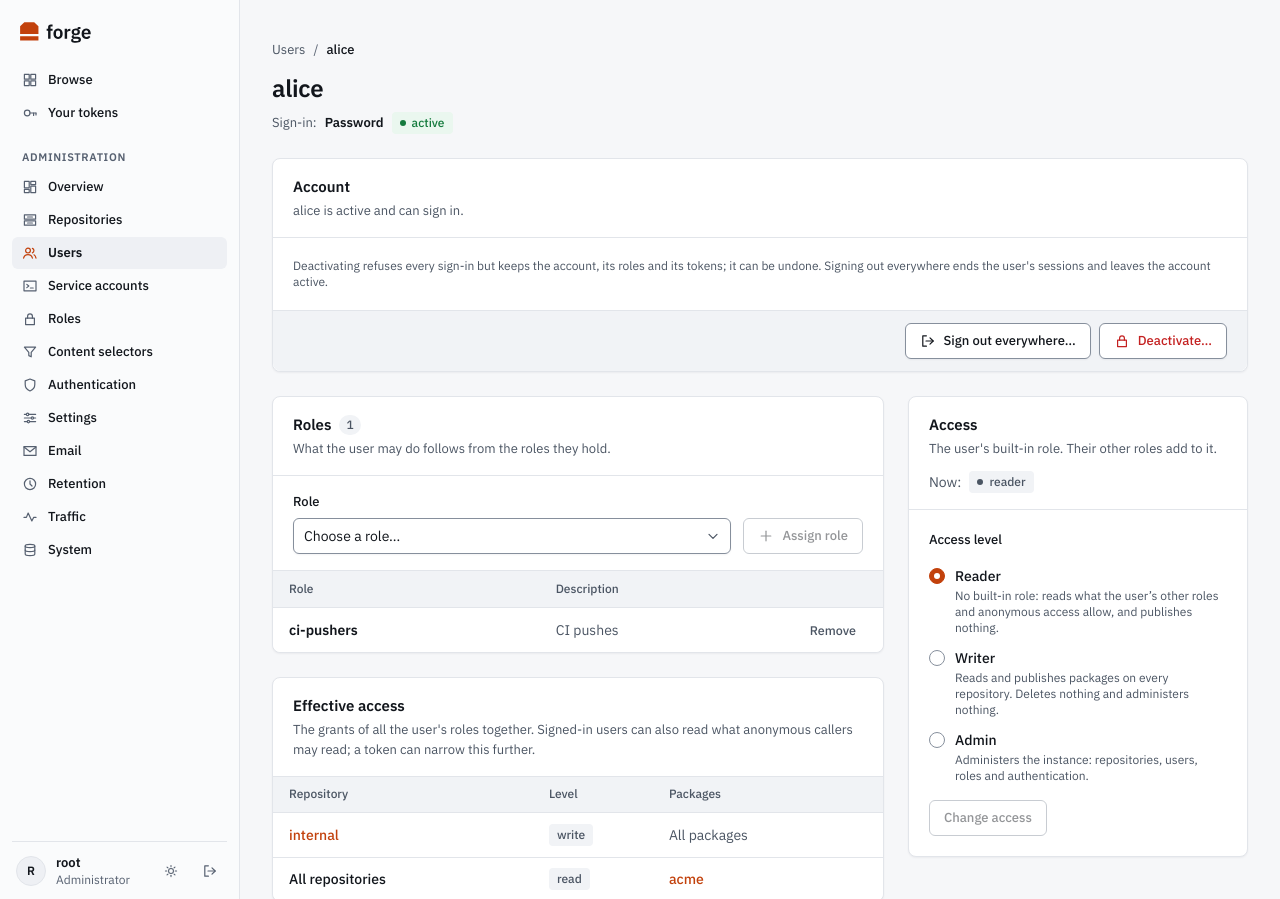
Scenario: admin user roles › assigns and removes a user's roles
The image size is (1280, 899).
Expected: the link "ci-pushers" is shown, x1=289 y1=620 x2=358 y2=640
Select "auditors" in the dropdown labelled "Role" at (512, 536), box x1=293 y1=518 x2=731 y2=554
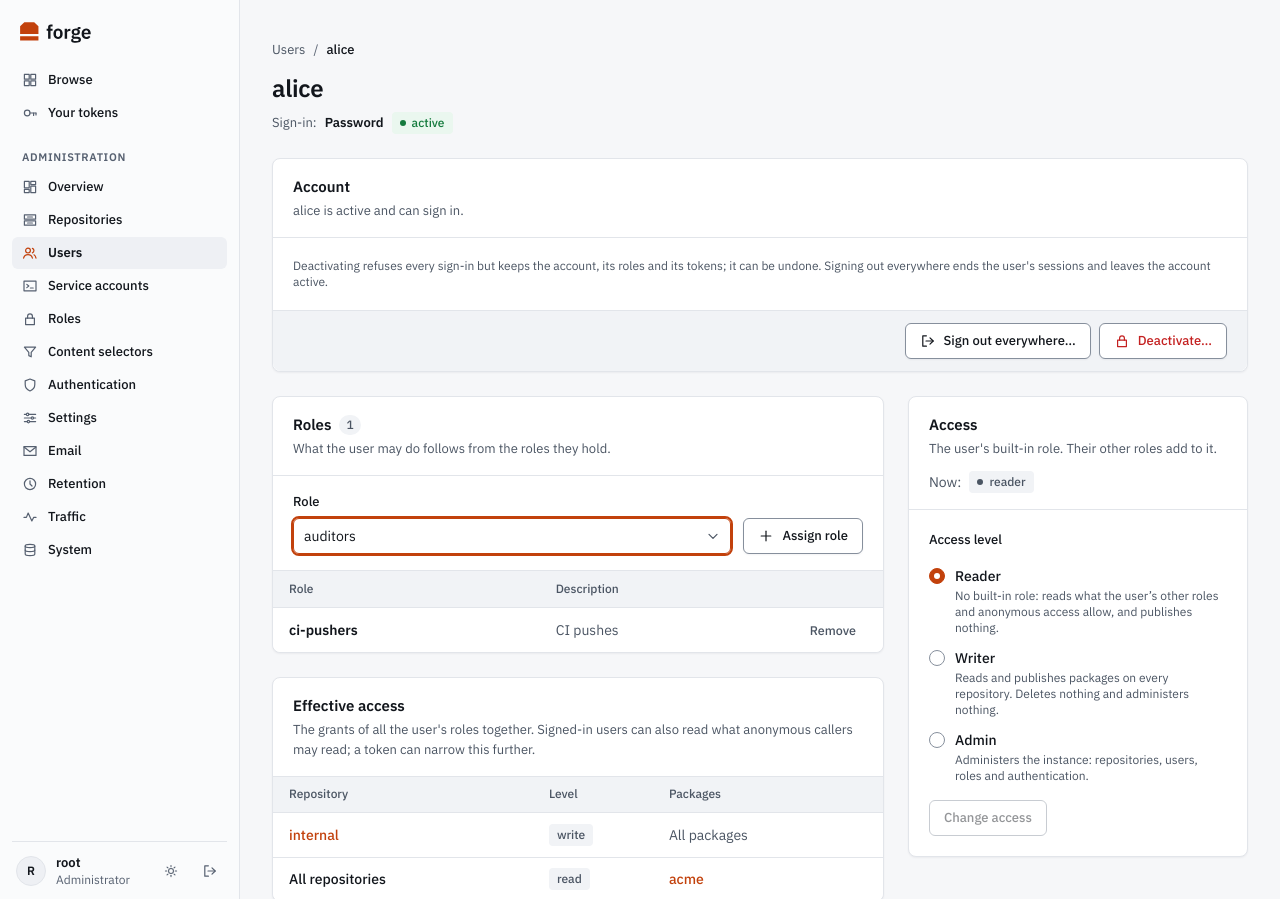
Click the button "Assign role" at (803, 536), box x1=743 y1=518 x2=863 y2=554
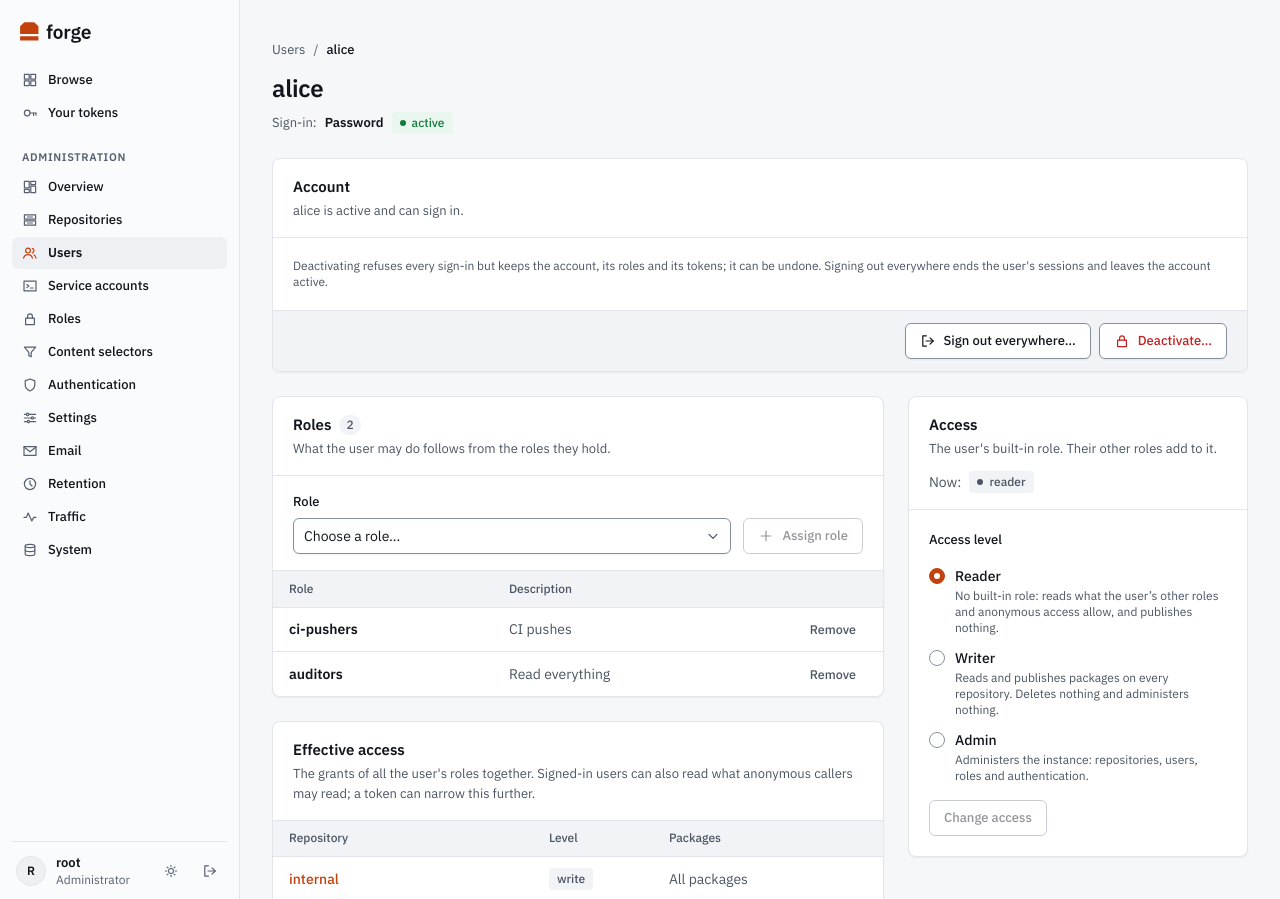
Expected: the link "auditors" is shown, x1=289 y1=664 x2=343 y2=684
Click the button with aria-label "Remove role ci-pushers" at (833, 629), box x1=799 y1=615 x2=867 y2=643
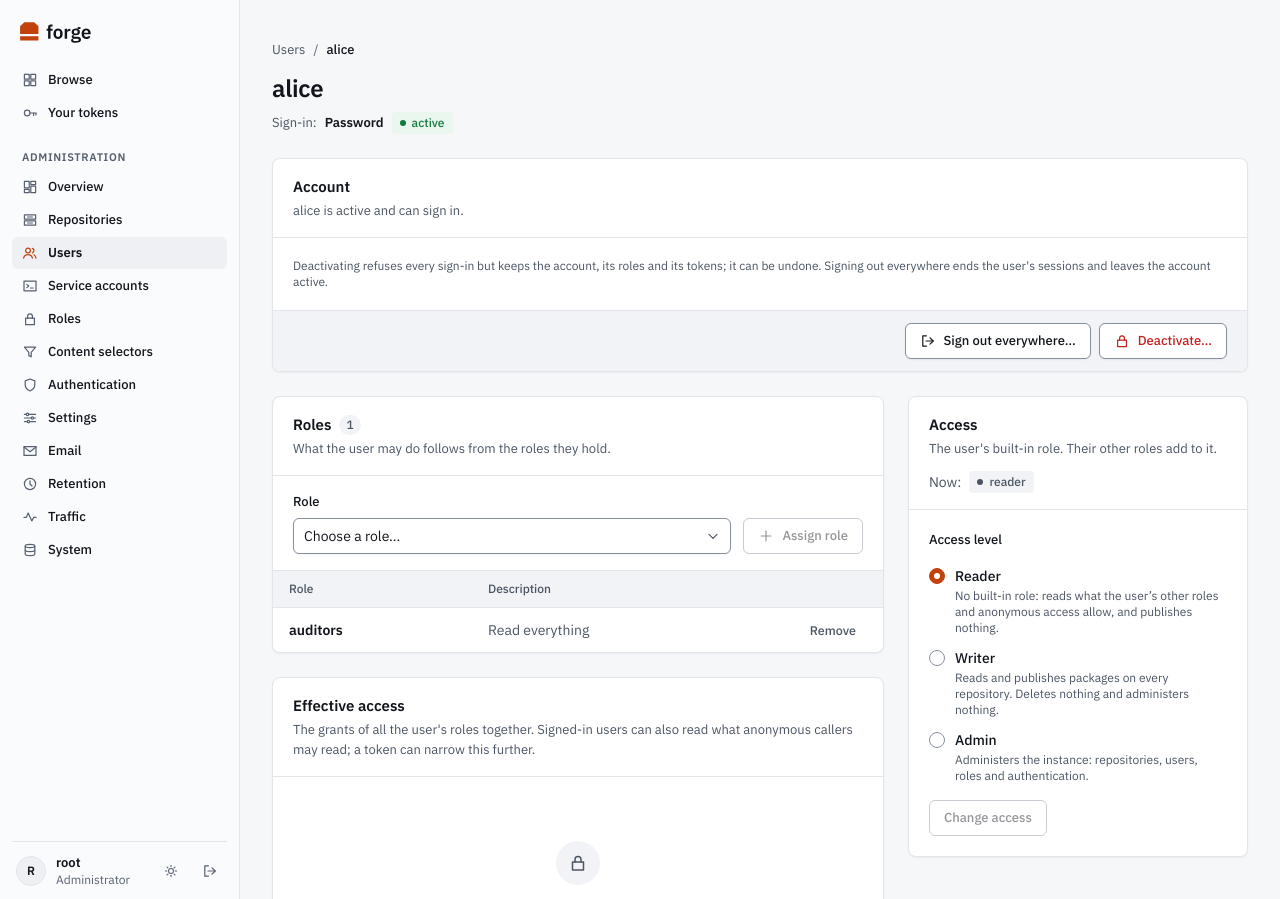
Expected: the link "ci-pushers" is gone
